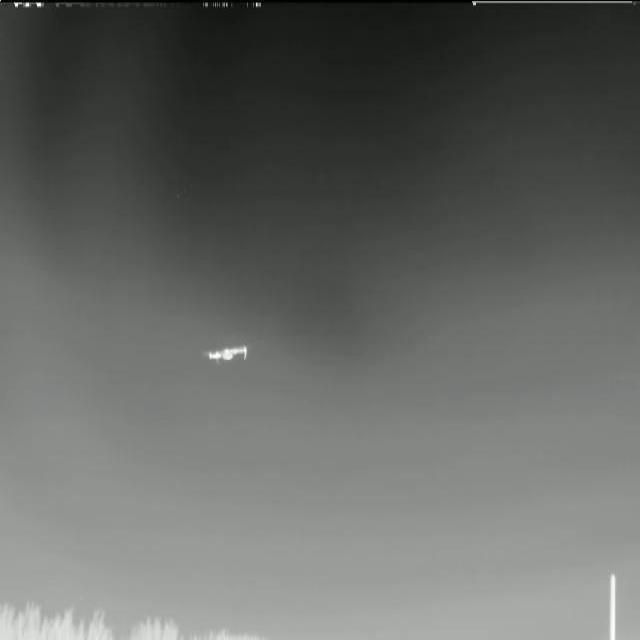DRONE: (192, 332, 258, 372)
